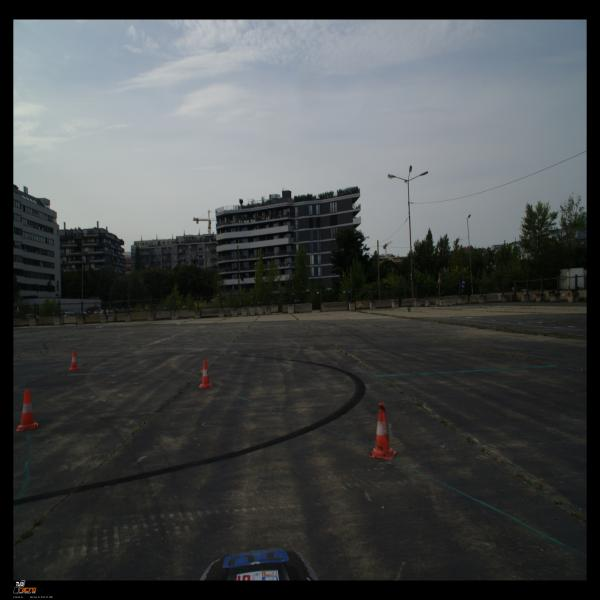orange_cone: (368, 402, 396, 459), (16, 390, 38, 432), (199, 360, 213, 388), (68, 350, 81, 371)
